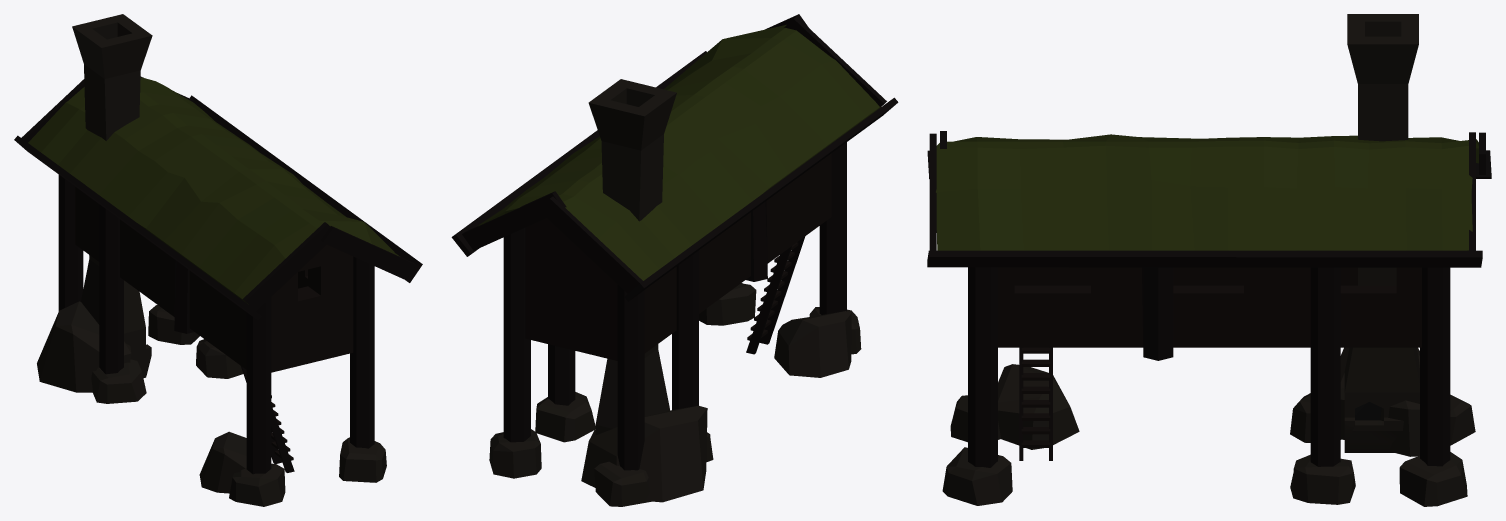
Rendered from Village_SodHouse_6.fbx.
3 renders of one model, left to right at view 1: azimuth 30°, elevation 25°; view 2: azimuth 150°, elevation 25°; view 3: azimuth 270°, elevation 25°, orthographic. The views are drawn at different scales.
Parts seen in each view (by area): view 1: Village_SodHouse_6; view 2: Village_SodHouse_6; view 3: Village_SodHouse_6.
Boxes of the visible parts, bbox=[...] form: Village_SodHouse_6: bbox=[14, 14, 422, 506]; Village_SodHouse_6: bbox=[451, 14, 898, 506]; Village_SodHouse_6: bbox=[927, 14, 1491, 506].
Size of the model in its own units: 746 by 1259 by 1559.
